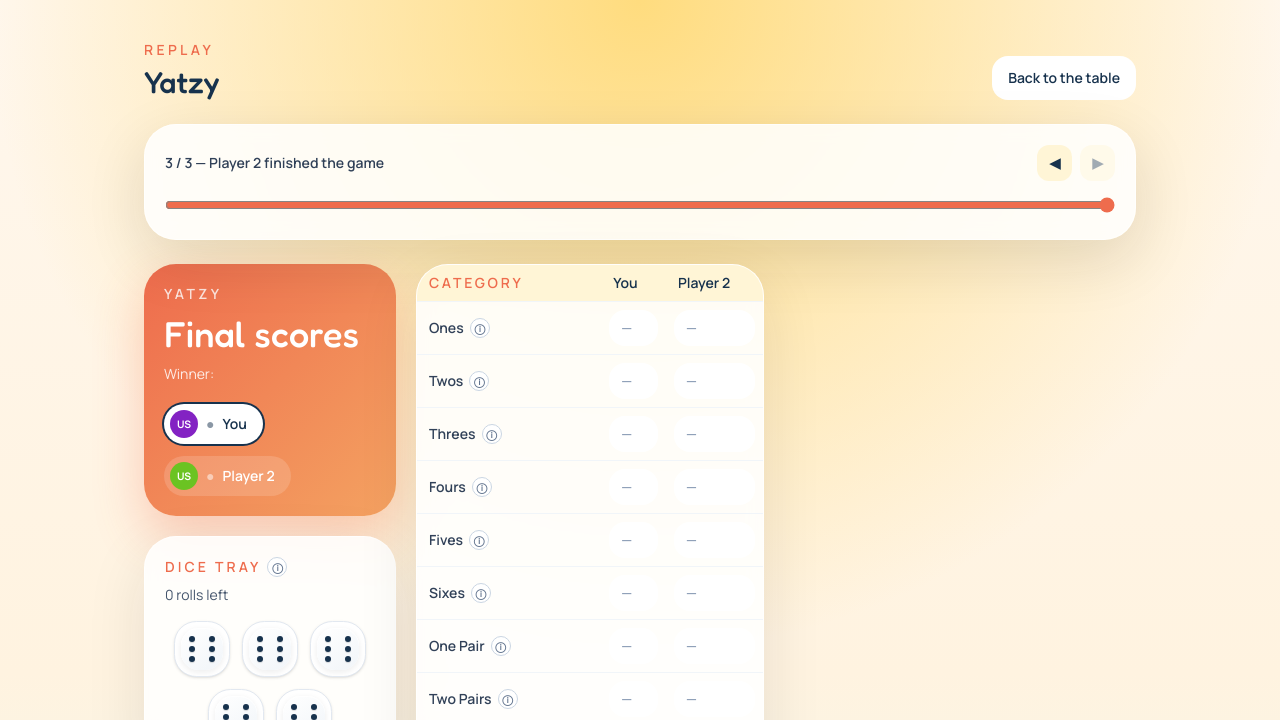
ReplayPage › renders the board of the step it is on
Expected: the text "3 / 3 — Player 2 finished the game" is shown, [165,153,384,173]
Expected: the picture named "Die 1: 6" is shown, [174,621,230,677]
Click the button named "Previous step" at (1055, 163), box [1037,145,1072,181]
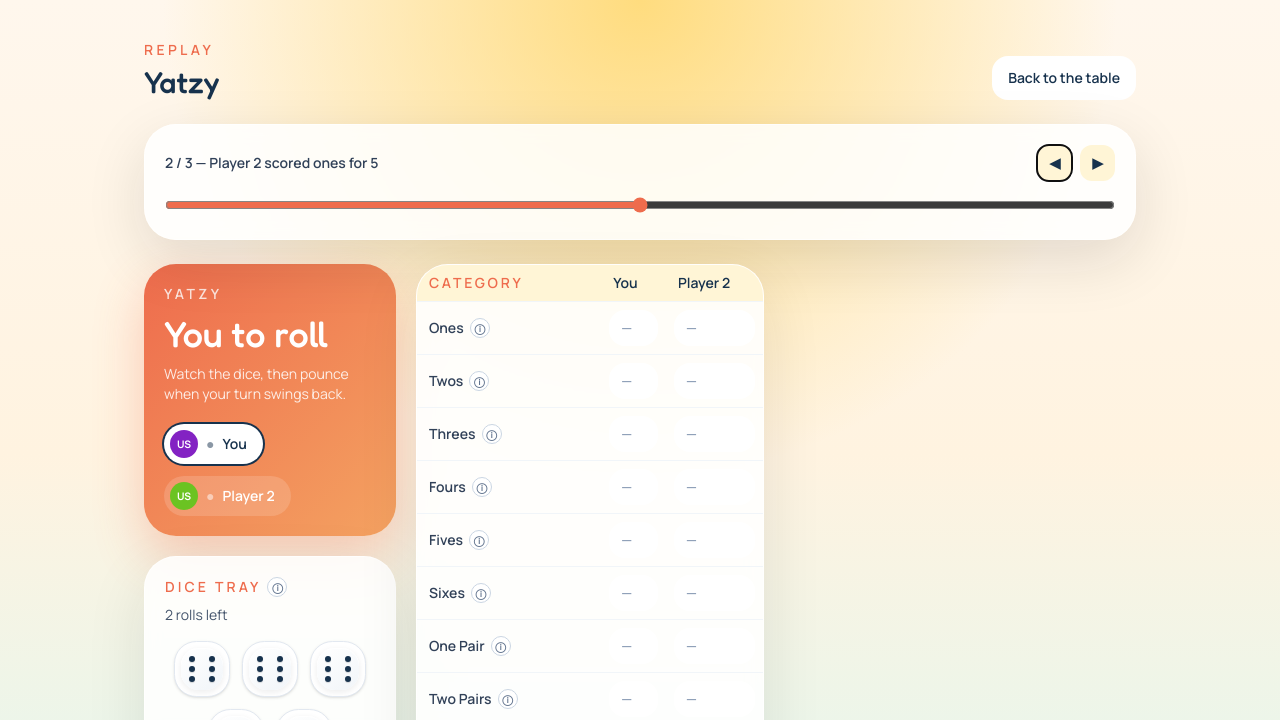
Click the button named "Previous step" at (1055, 163), box [1037,145,1072,181]
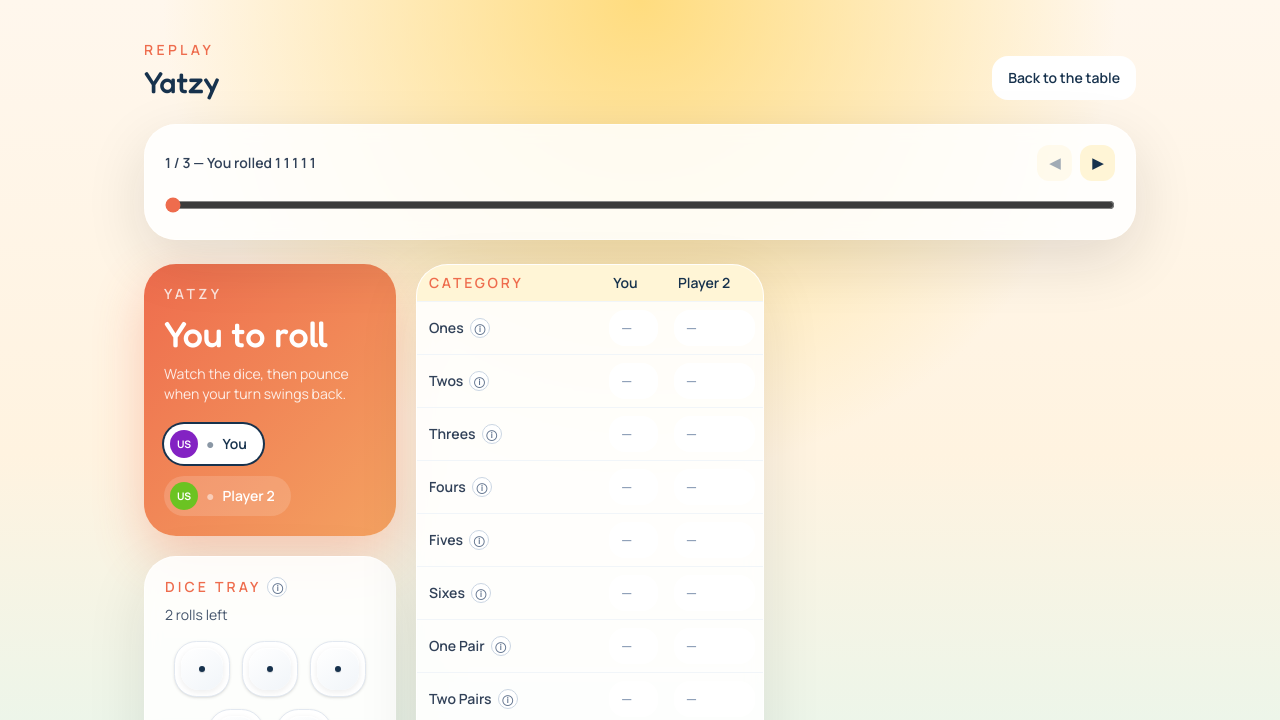
Expected: the text "2 rolls left" is shown, [165,605,228,624]
Expected: the picture named "Die 1: 1" is shown, [174,641,230,697]
